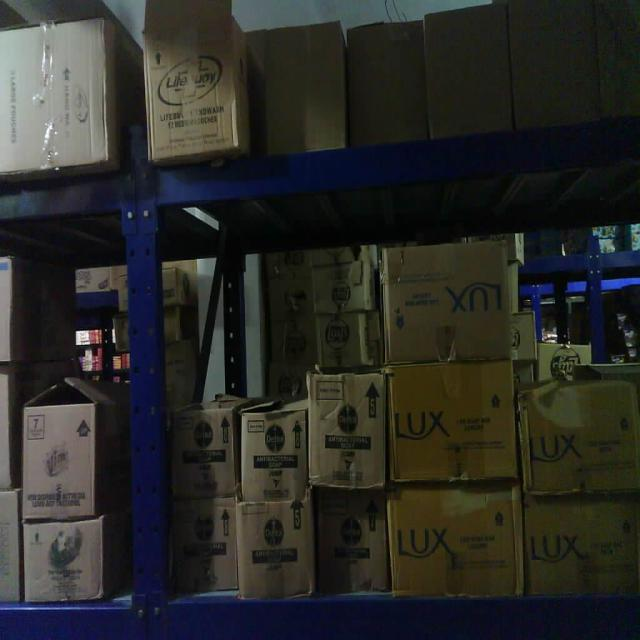box: (0, 15, 113, 168), (386, 361, 521, 485), (388, 477, 524, 600), (381, 242, 515, 363), (242, 18, 347, 158), (516, 378, 639, 494), (146, 12, 237, 163), (519, 492, 639, 601), (424, 0, 516, 136), (345, 14, 427, 149), (306, 370, 392, 489), (21, 399, 98, 523), (315, 492, 391, 596), (20, 514, 105, 604), (237, 498, 315, 596), (238, 408, 310, 506), (170, 404, 239, 501), (173, 502, 240, 591)
